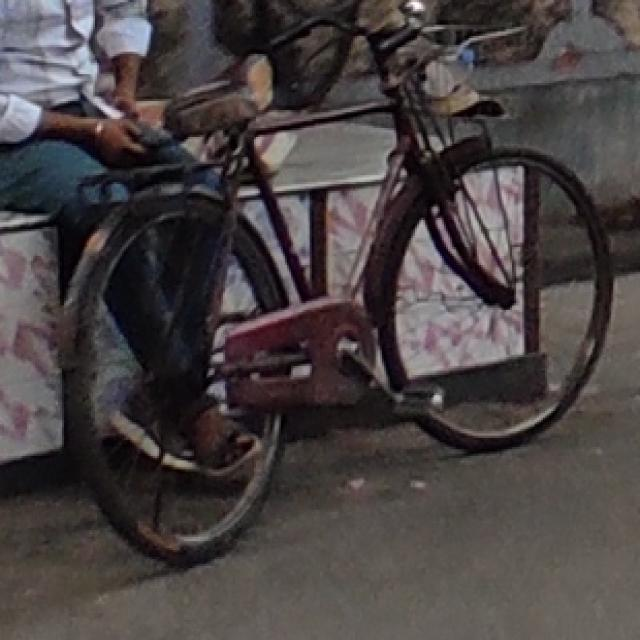bicycle: (28, 20, 640, 559)
